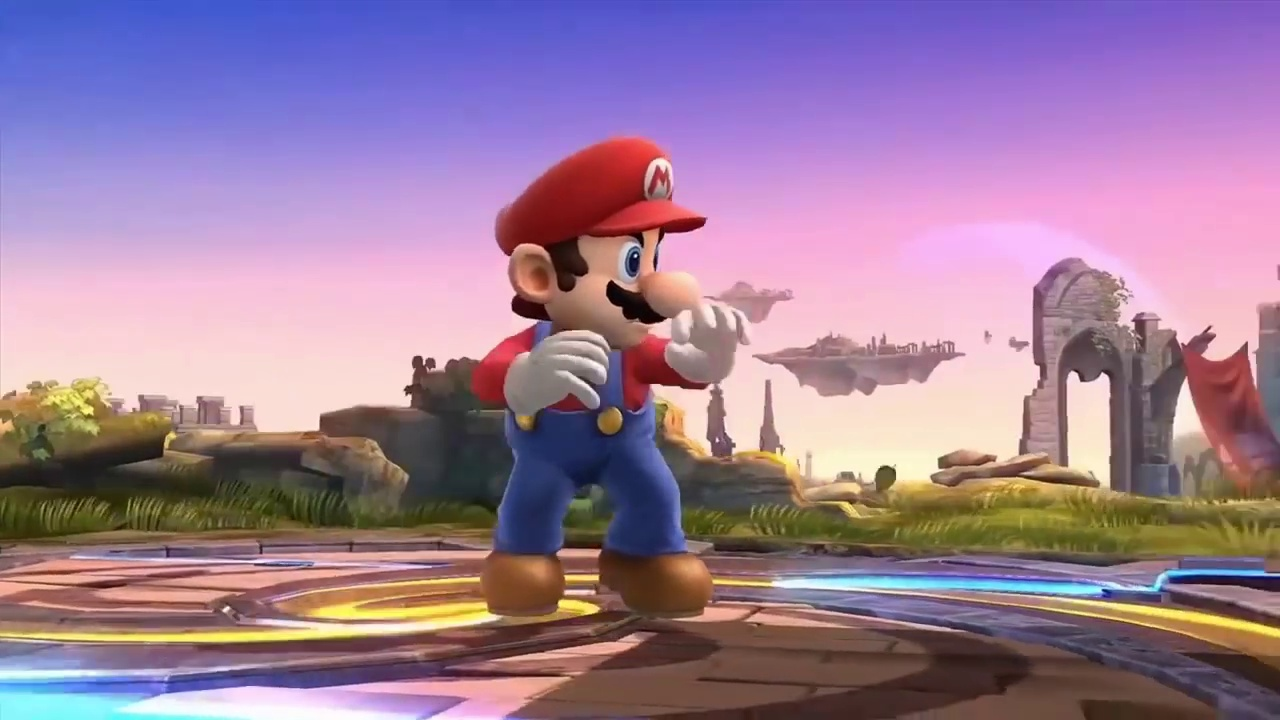Mario: (472, 134, 752, 621)
